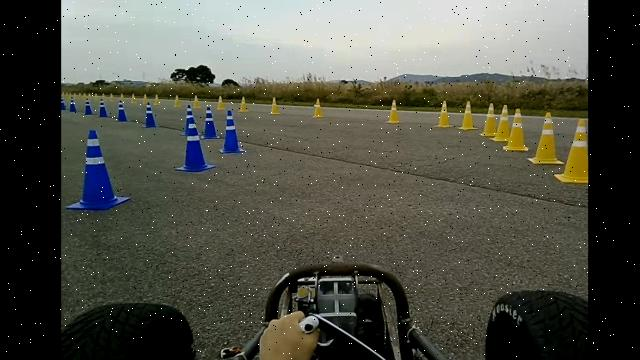blue cone: (66, 128, 130, 210), (171, 116, 219, 170), (213, 106, 249, 158)
yellow cone: (526, 109, 562, 166), (501, 106, 529, 152), (432, 98, 457, 130), (457, 101, 479, 132), (384, 99, 402, 124), (311, 97, 325, 118), (269, 96, 280, 115), (238, 95, 248, 112), (216, 95, 225, 110), (192, 94, 201, 108)
